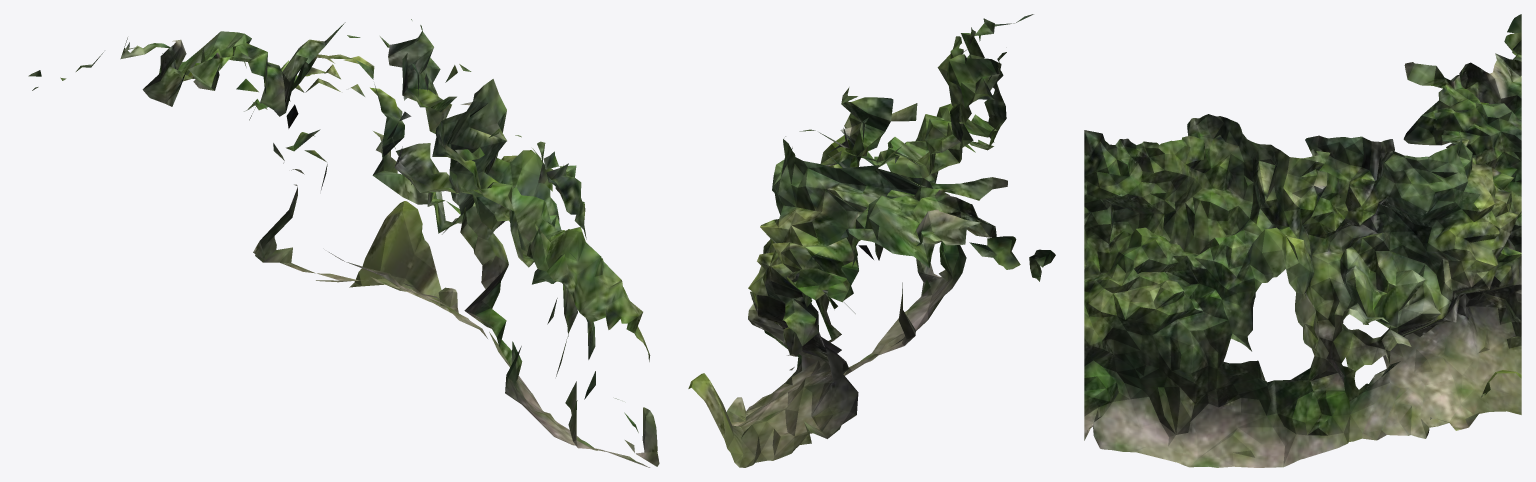
3 renders of one model, left to right at view 1: azimuth 30°, elevation 25°; view 2: azimuth 150°, elevation 25°; view 3: azimuth 270°, elevation 25°, orthographic. The views are drawn at different scales.
Bounding box in the file's own units: 22.93 × 19.23 × 26.11.
Materials: 4 (4 with a texture image).
